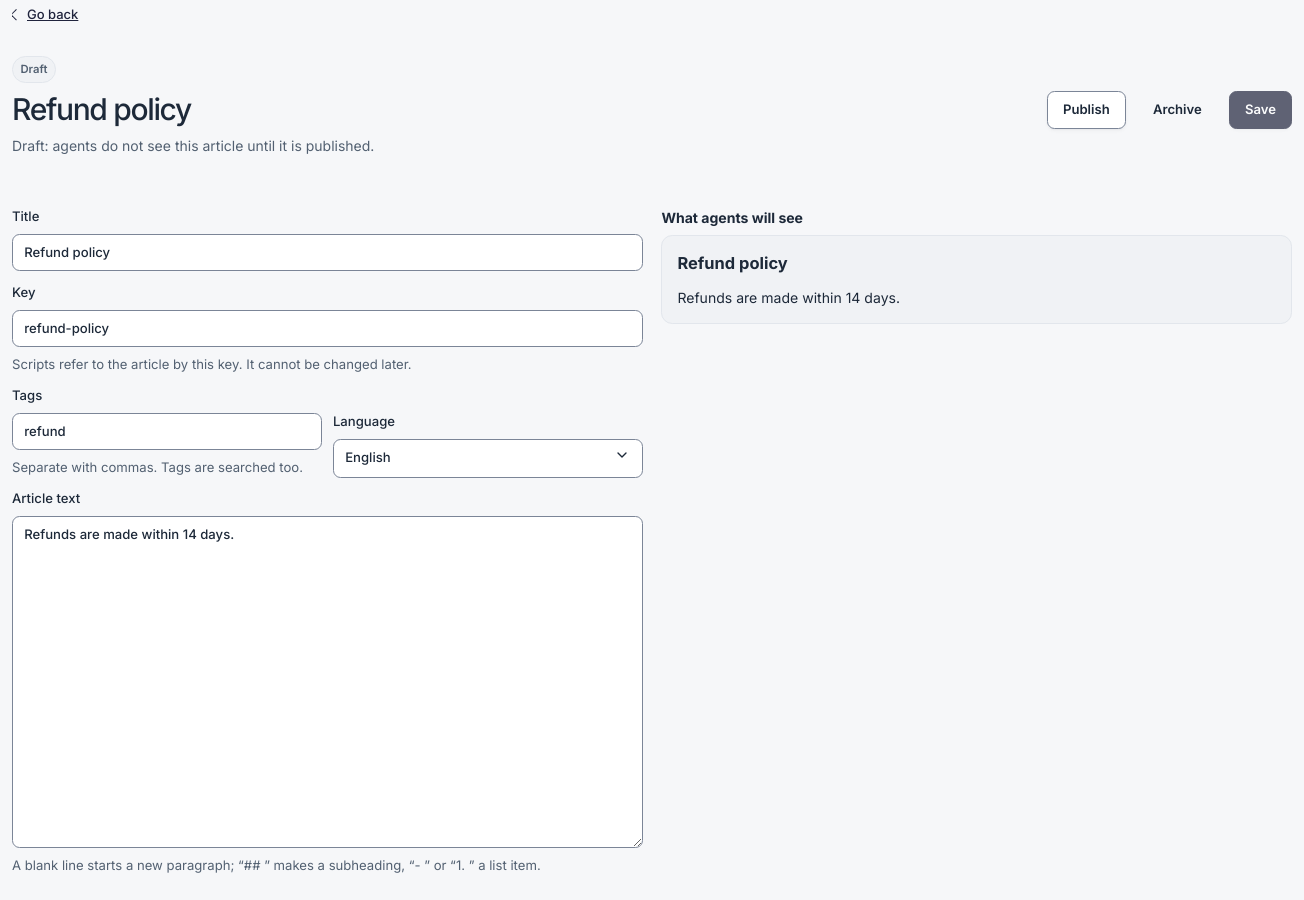
Scenario: knowledge pages › publishes a saved draft and shows a conflict when someone else changed it
This screenshot has width=1304, height=900.
Click the button "Publish" at (1086, 110), box left=1047, top=91, right=1126, bottom=129
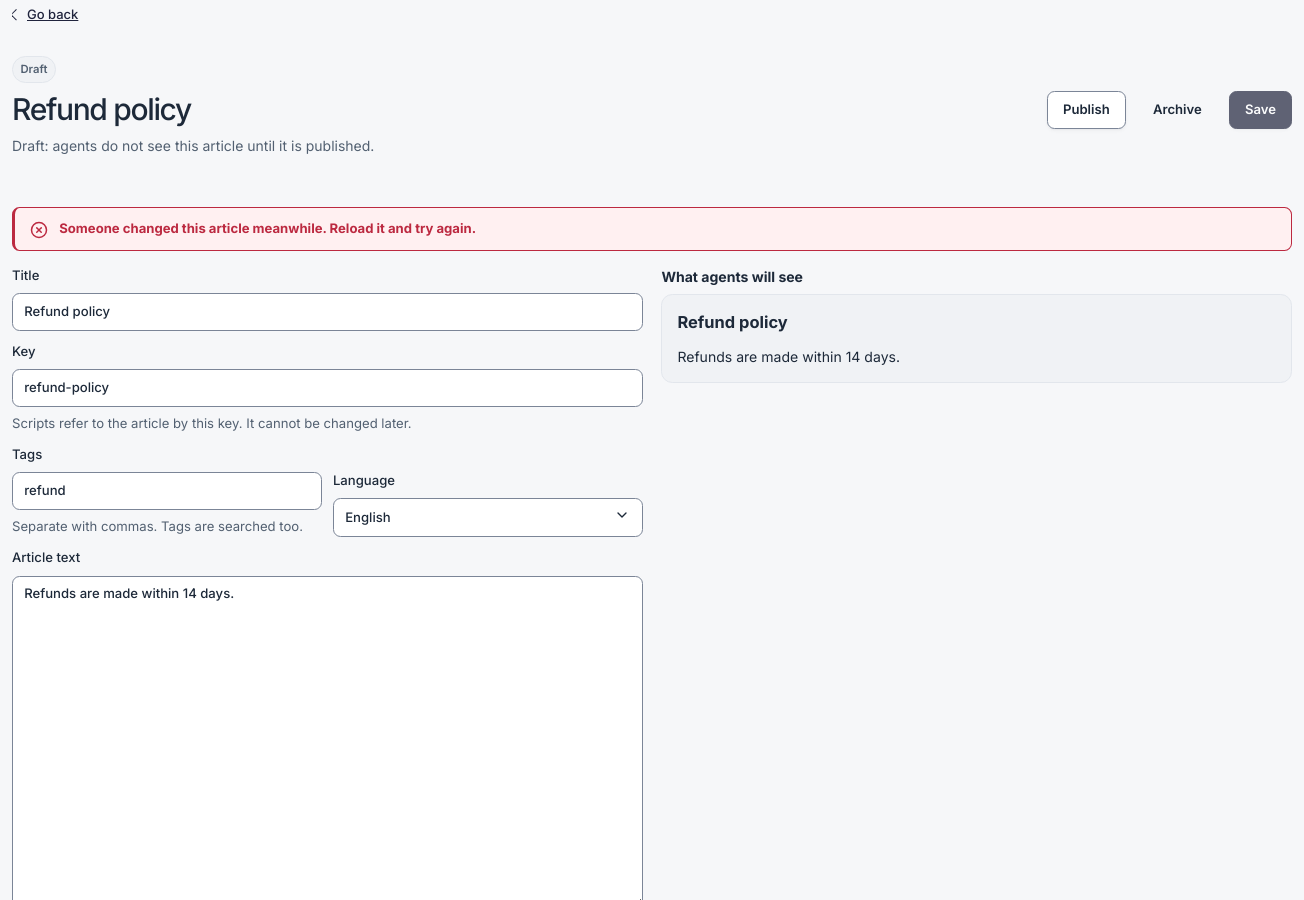
Now the text "Someone changed this article meanwhile. Reload it and try again." is shown, box left=59, top=220, right=476, bottom=236
